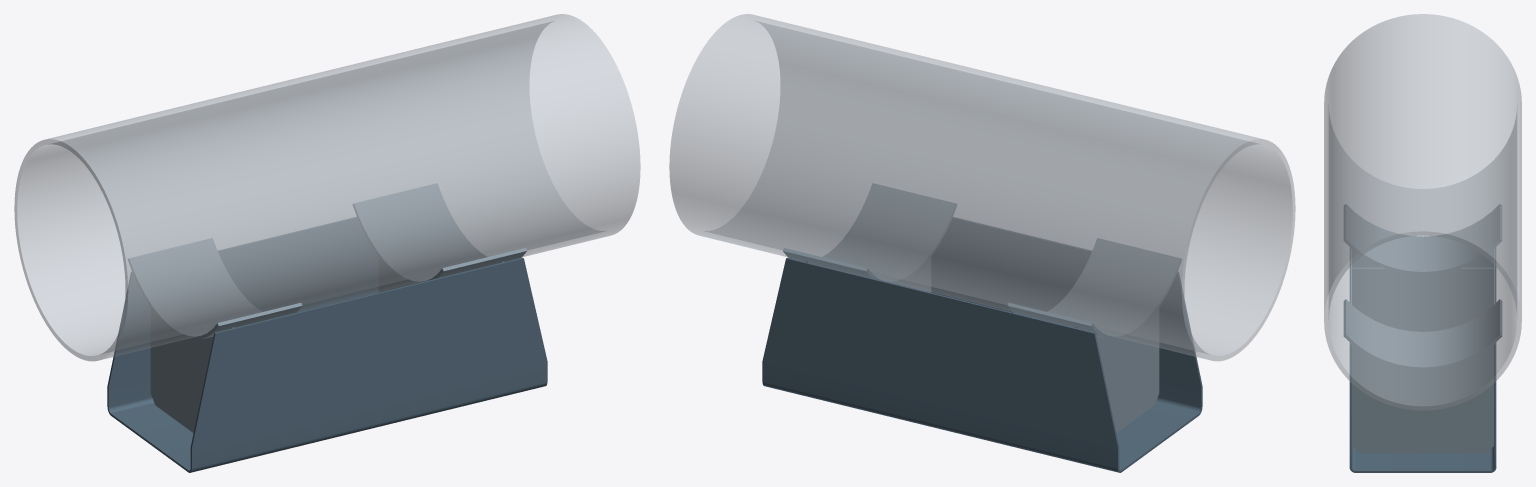
Rendered from TS-624.000-086-opora-dn377-H200-L680.glb.
3 renders of one model, left to right at view 1: azimuth 30°, elevation 25°; view 2: azimuth 150°, elevation 25°; view 3: azimuth 270°, elevation 25°, orthographic. The views are drawn at different scales.
Visible parts, largest first — view 1: truba, skoba, podushka_0, podushka_1, rebro3_0; view 2: truba, skoba, podushka_0, podushka_1, rebro3_0; view 3: truba, rebro3_1, rebro4_0, podushka_1, podushka_0, skoba, rebro3_0.
Part boxes in pixels (box(x1,y1,x2,y2)): truba: box(14, 14, 640, 361); skoba: box(107, 217, 547, 472); podushka_0: box(128, 238, 302, 339); podushka_1: box(353, 183, 526, 284); rebro3_0: box(150, 308, 234, 432); truba: box(669, 14, 1295, 361); skoba: box(762, 217, 1202, 472); podushka_0: box(1007, 238, 1181, 339); podushka_1: box(783, 183, 956, 284); rebro3_0: box(1075, 308, 1159, 432); truba: box(1324, 14, 1521, 410); rebro3_1: box(1352, 345, 1493, 453); rebro4_0: box(1352, 267, 1493, 331); podushka_1: box(1343, 299, 1502, 370); podushka_0: box(1344, 204, 1501, 274); skoba: box(1349, 248, 1496, 472); rebro3_0: box(1352, 250, 1493, 267).
Bounding box in the file's own units: 980 × 578 × 377.
